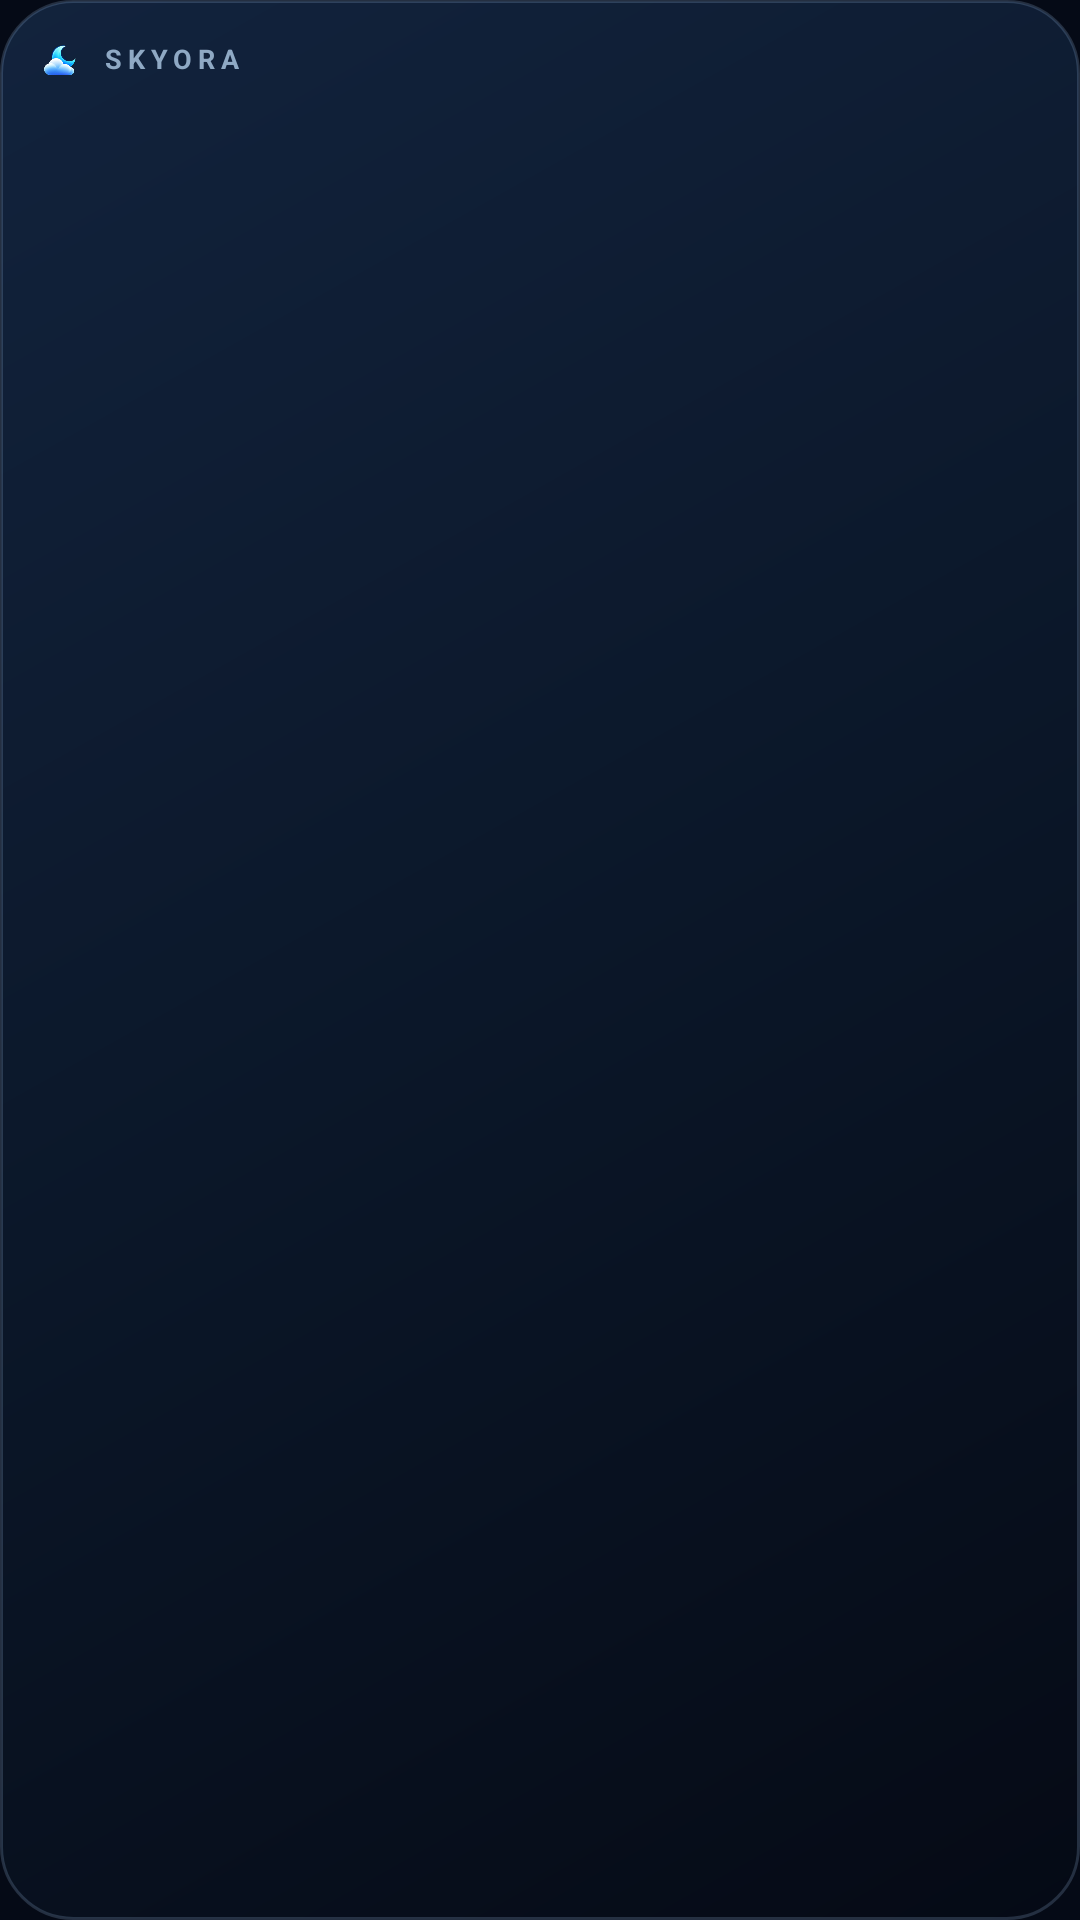

Where icons sit on this 1080×1920 app screen, as bbox=[x1, y1, x2, y2]:
brand mark: bbox=[44, 45, 76, 75]
